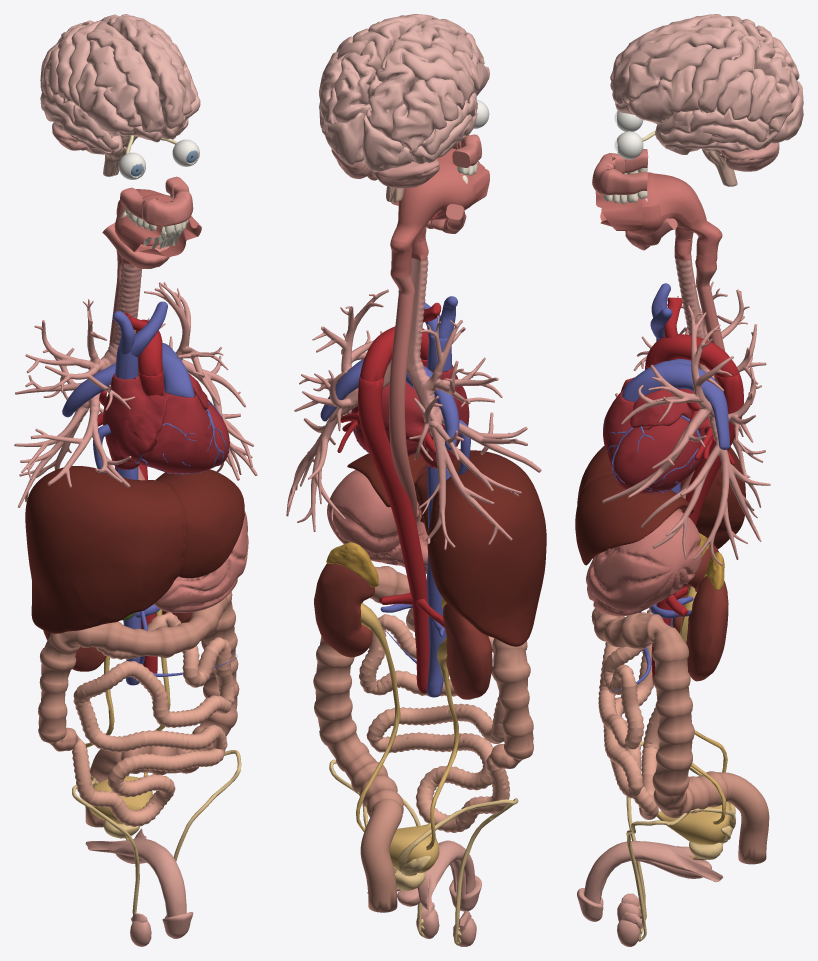
The model's file is vitrine_organes.glb.
3 views of the same model, side by side, from view 1: azimuth 30°, elevation 25°; view 2: azimuth 150°, elevation 25°; view 3: azimuth 270°, elevation 25° (orthographic). The views are drawn at different scales.
Parts seen in each view (by area): view 1: Vitrine | Foie, Vitrine | Cerveau, Vitrine | Intestin grele, Vitrine | Colon, Vitrine | Voies respiratoires, Vitrine | Coeur, Vitrine | Tronc pulmonaire et veines caves, Vitrine | Appareil reproducteur, Vitrine | Oesophage et estomac, Vitrine | Gencive superieure, Vitrine | Bouche paroi, Vitrine | Aorte et veines pulmonaires (+8 smaller); view 2: Vitrine | Cerveau, Vitrine | Foie, Vitrine | Colon, Vitrine | Voies respiratoires, Vitrine | Intestin grele, Vitrine | Oesophage et estomac, Vitrine | Aorte et veines pulmonaires, Vitrine | Reins, Vitrine | Tronc pulmonaire et veines caves, Vitrine | Bouche paroi, Vitrine | Ureteres et vessie, Vitrine | Appareil reproducteur (+8 smaller); view 3: Vitrine | Cerveau, Vitrine | Colon, Vitrine | Voies respiratoires, Vitrine | Oesophage et estomac, Vitrine | Foie, Vitrine | Intestin grele, Vitrine | Coeur, Vitrine | Appareil reproducteur, Vitrine | Aorte et veines pulmonaires, Vitrine | Bouche paroi, Vitrine | Reins, Vitrine | Tronc pulmonaire et veines caves (+10 smaller).
Part boxes in pixels (x1,y1,x2,y2): Vitrine | Foie: (25,466,244,633); Vitrine | Cerveau: (40,14,200,155); Vitrine | Intestin grele: (72,612,235,826); Vitrine | Colon: (38,591,239,827); Vitrine | Voies respiratoires: (14,262,257,507); Vitrine | Coeur: (100,373,229,473); Vitrine | Tronc pulmonaire et veines caves: (62,301,194,685); Vitrine | Appareil reproducteur: (85,828,193,946); Vitrine | Oesophage et estomac: (109,282,248,612); Vitrine | Gencive superieure: (120,176,193,226); Vitrine | Bouche paroi: (114,189,201,264); Vitrine | Aorte et veines pulmonaires: (97,313,164,673); Vitrine | Cerveau: (319,14,489,171); Vitrine | Foie: (347,449,546,646); Vitrine | Colon: (313,566,533,912); Vitrine | Voies respiratoires: (286,257,541,549); Vitrine | Intestin grele: (359,608,509,832); Vitrine | Oesophage et estomac: (327,292,428,573); Vitrine | Aorte et veines pulmonaires: (337,302,453,693); Vitrine | Reins: (314,563,492,699); Vitrine | Tronc pulmonaire et veines caves: (320,290,459,697); Vitrine | Bouche paroi: (390,148,489,277); Vitrine | Ureteres et vessie: (356,603,459,872); Vitrine | Appareil reproducteur: (367,840,481,946); Vitrine | Cerveau: (610,14,803,154); Vitrine | Colon: (591,608,769,864); Vitrine | Voies respiratoires: (602,253,770,565); Vitrine | Oesophage et estomac: (586,285,724,616); Vitrine | Foie: (575,446,745,565); Vitrine | Intestin grele: (598,607,659,819); Vitrine | Coeur: (603,377,711,493); Vitrine | Appareil reproducteur: (577,841,723,946); Vitrine | Aorte et veines pulmonaires: (645,297,743,685); Vitrine | Bouche paroi: (596,172,722,271); Vitrine | Reins: (672,544,728,681); Vitrine | Tronc pulmonaire et veines caves: (622,283,730,626).
Size of the model in its own units: 0.2393 by 0.9408 by 0.2126.
